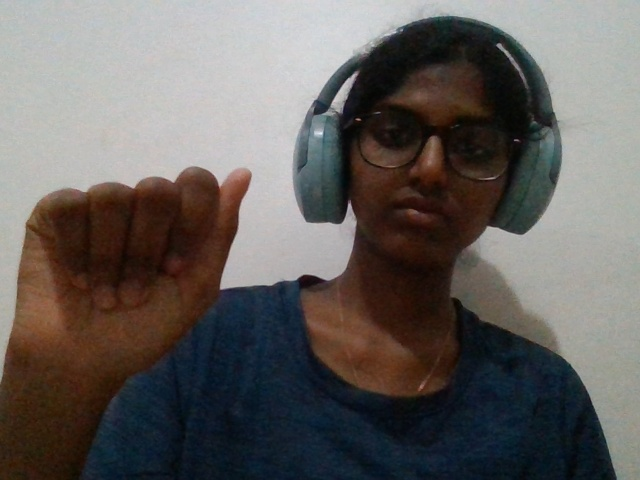A: (1, 144, 256, 475)
